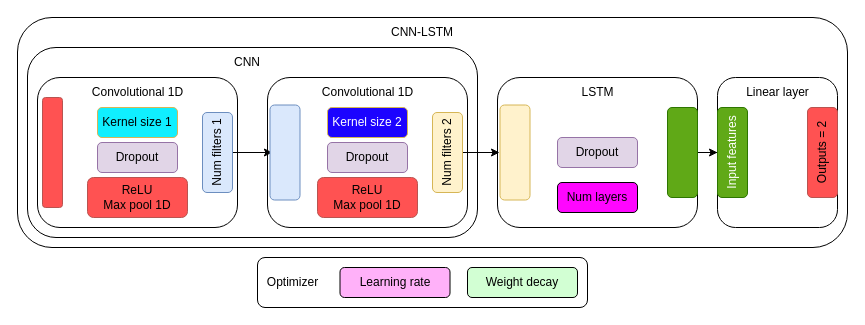
Image size: 865x325. Some labels were removed from this diagram. Here are the shapes that lost their labels. From the top down, the centre of each, then its label:
At (52,152): "Input channels = 1".
At (284,152): "Input channels".
At (514,152): "Input size".
At (682,152): "Hidden size".
